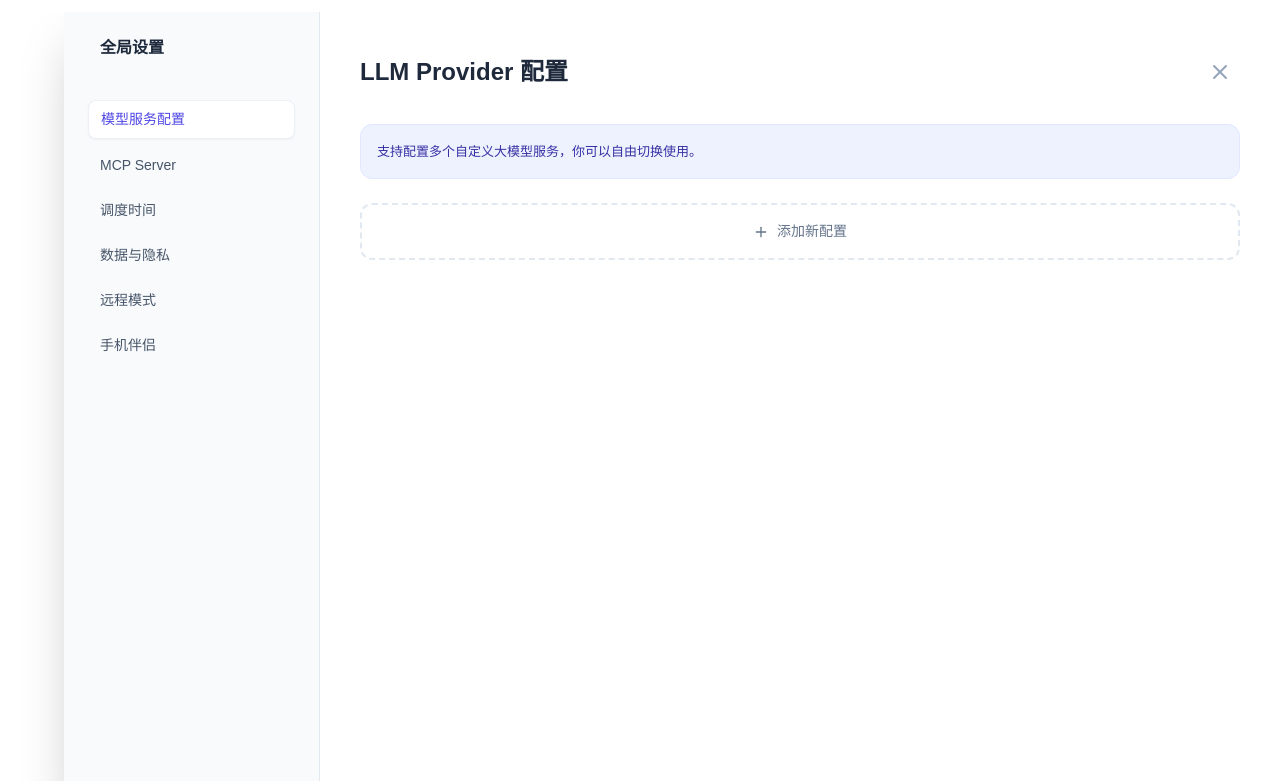
GlobalSettingsModal › MCP 保存失败时保留 Error 实例中的具体错误消息
Click the button "MCP Server".
click(192, 166)  # box [88,147,295,184]
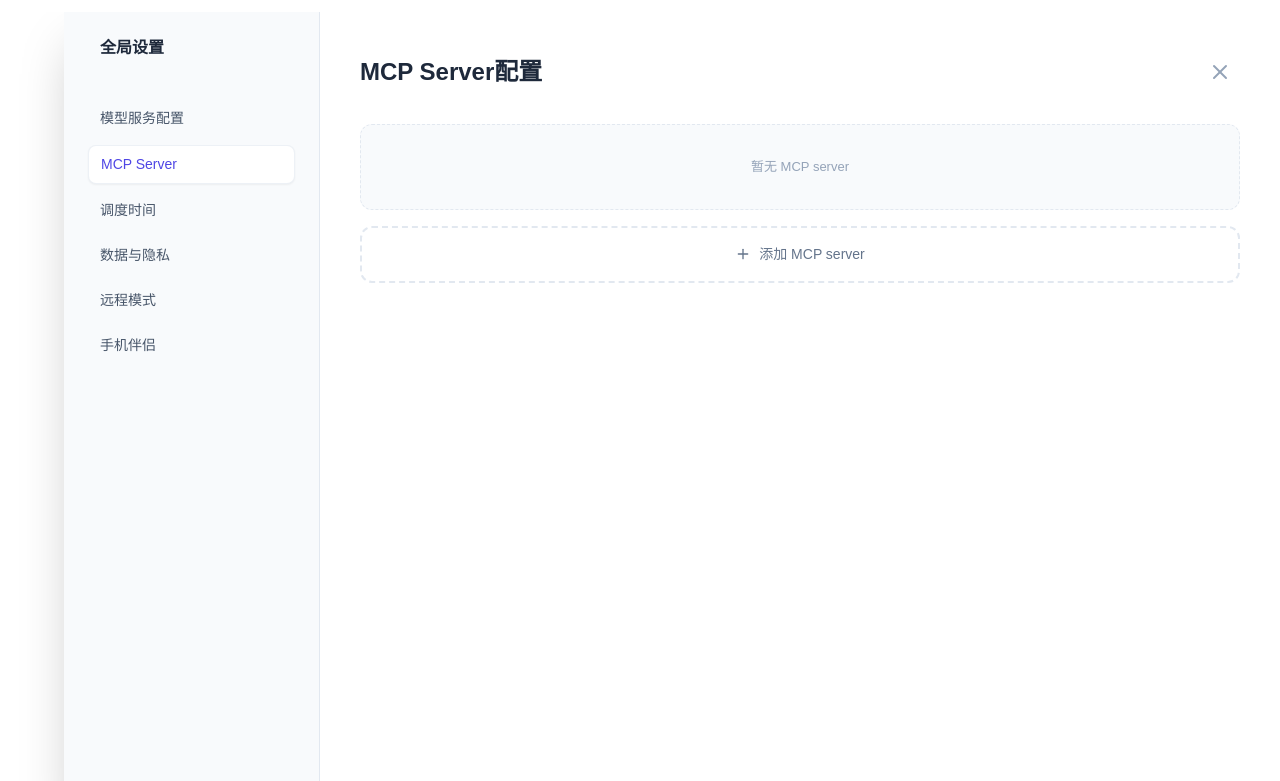
Click the button "添加 MCP server".
click(800, 254)  # box [360,226,1240,282]
(page scrolled)
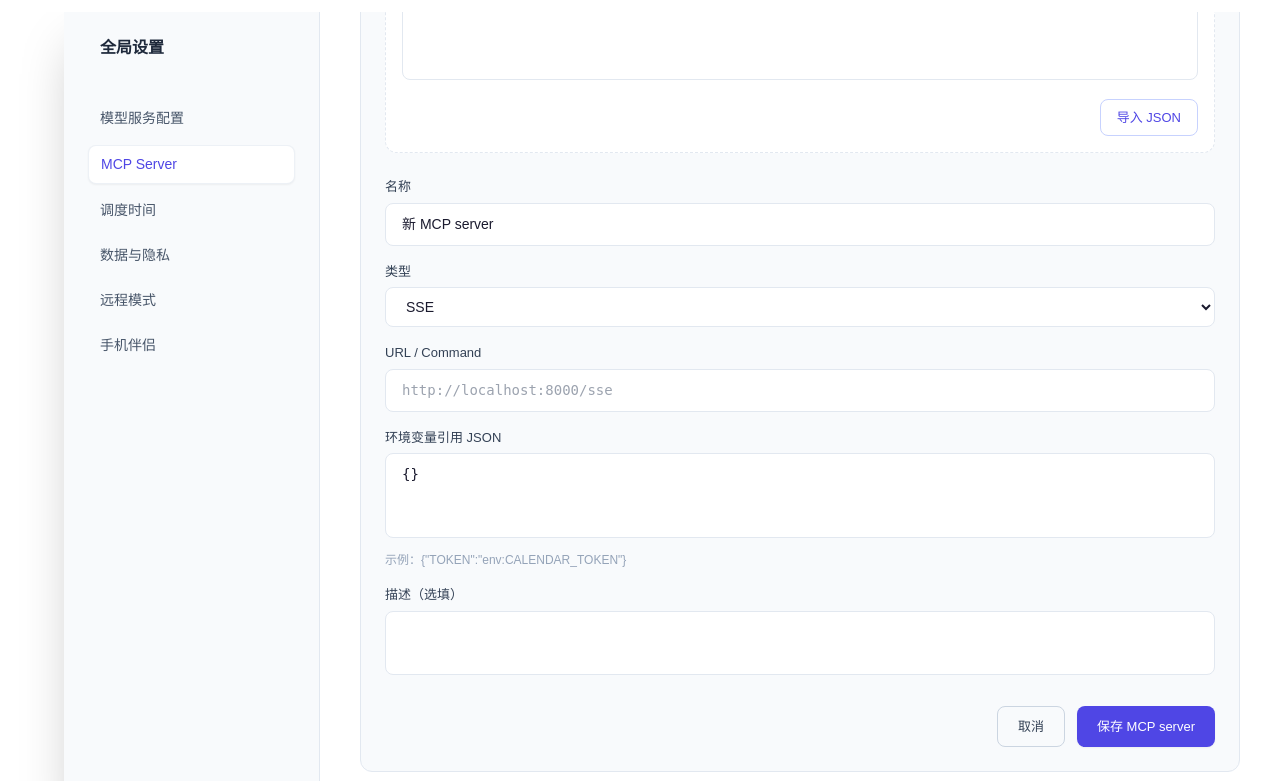
Click the button "保存 MCP server".
click(1146, 726)  # box [1077,706,1215,747]
(page scrolled)
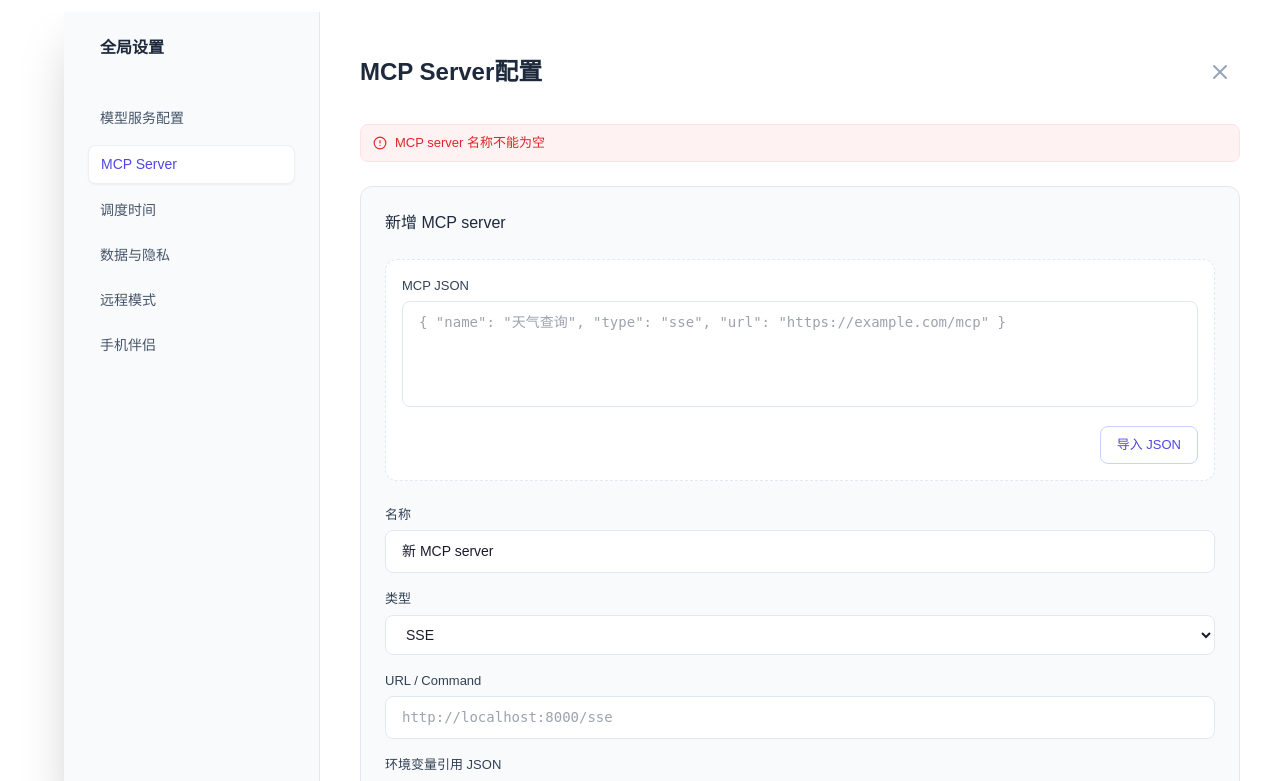
Result: the text "MCP server 名称不能为空" is shown at [360,124,1240,162]
